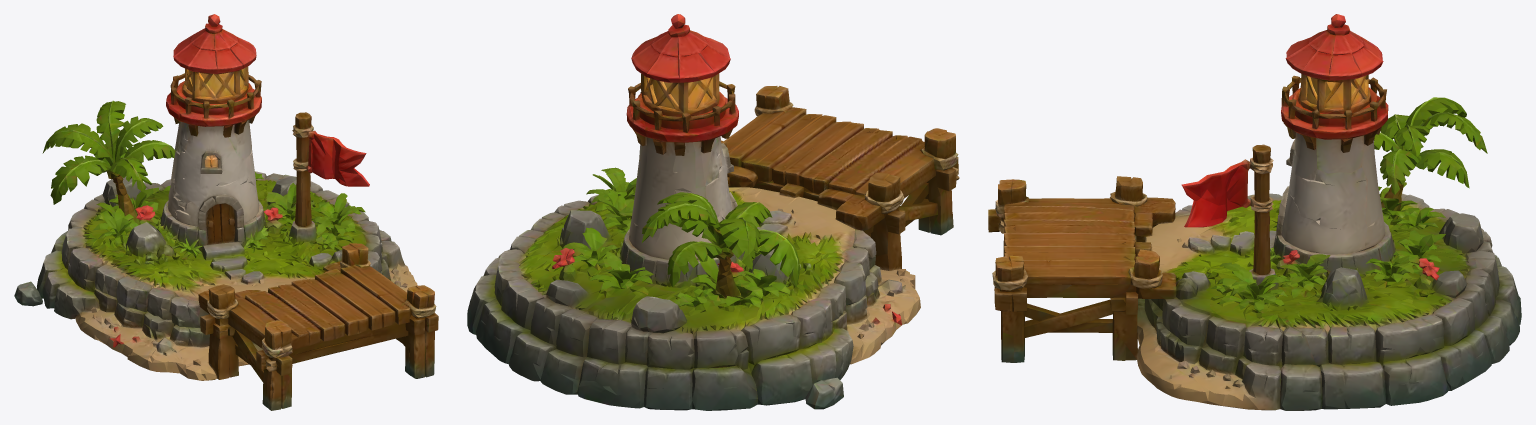
File: rescue-dock-hyper3d.glb
3 views of the same model, side by side, from view 1: azimuth 30°, elevation 25°; view 2: azimuth 150°, elevation 25°; view 3: azimuth 270°, elevation 25° (orthographic). The views are drawn at different scales.
Parts seen in each view (by area): view 1: model; view 2: model; view 3: model.
Boxes of the visible parts, x1,y1,x2,y2 form: model: (14, 14, 438, 410); model: (467, 14, 959, 410); model: (988, 14, 1521, 410).
Bounding box in the file's own units: 1.53 × 1.22 × 1.9.
1 material, 1 textured.
